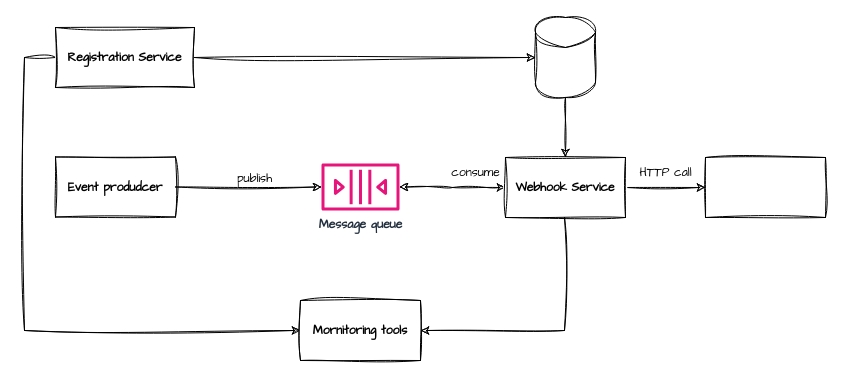
Some shapes in this 843 by 378 pixel diagram are drawn without their labels. The shapes that lost their labels are listed below. From the top down, each one's centre as x and y in pixels, then its label:
At pixel 565 57: "DB".
At pixel 765 187: "Forward events".
